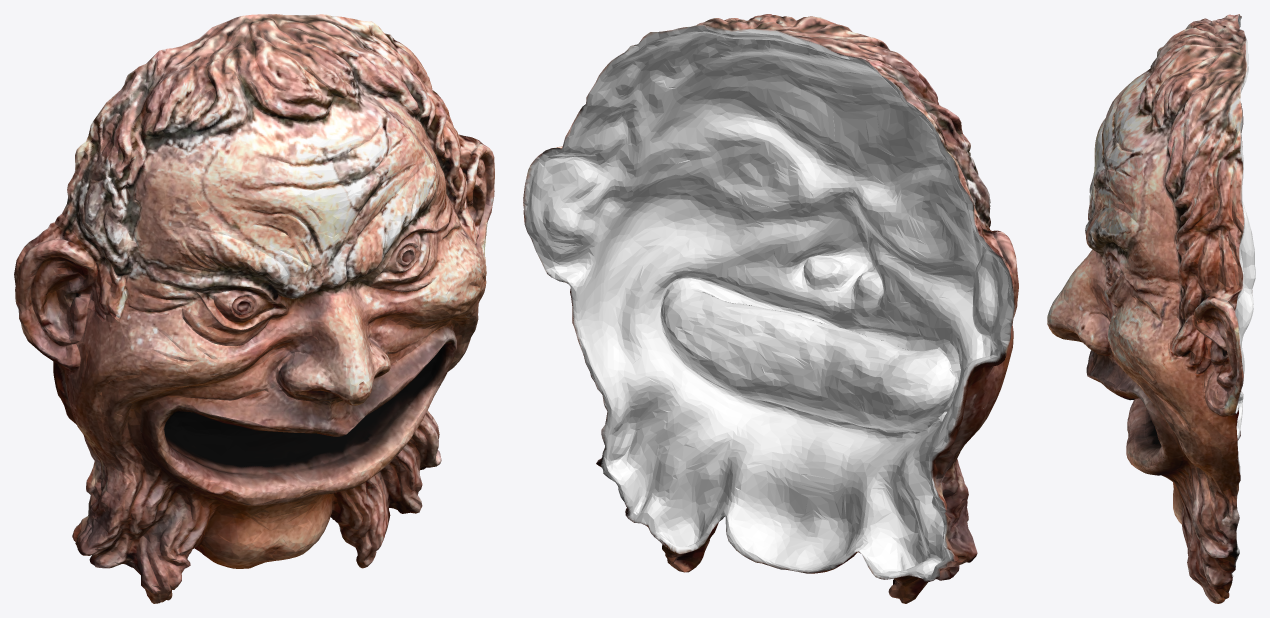
File: Maschera_grottesca.glb
3 views of the same model, side by side, from view 1: azimuth 30°, elevation 25°; view 2: azimuth 150°, elevation 25°; view 3: azimuth 270°, elevation 25° (orthographic). The views are drawn at different scales.
Parts seen in each view (by area): view 1: obj0; view 2: obj0; view 3: obj0.
Boxes of the visible parts, box(x1,y1,x2,y2) form: obj0: box(14, 14, 494, 603); obj0: box(523, 14, 1018, 603); obj0: box(1047, 14, 1255, 603).
Bounding box in the file's own units: 0.3934 × 0.4425 × 0.1627.
Materials: 1 (1 with a texture image).
